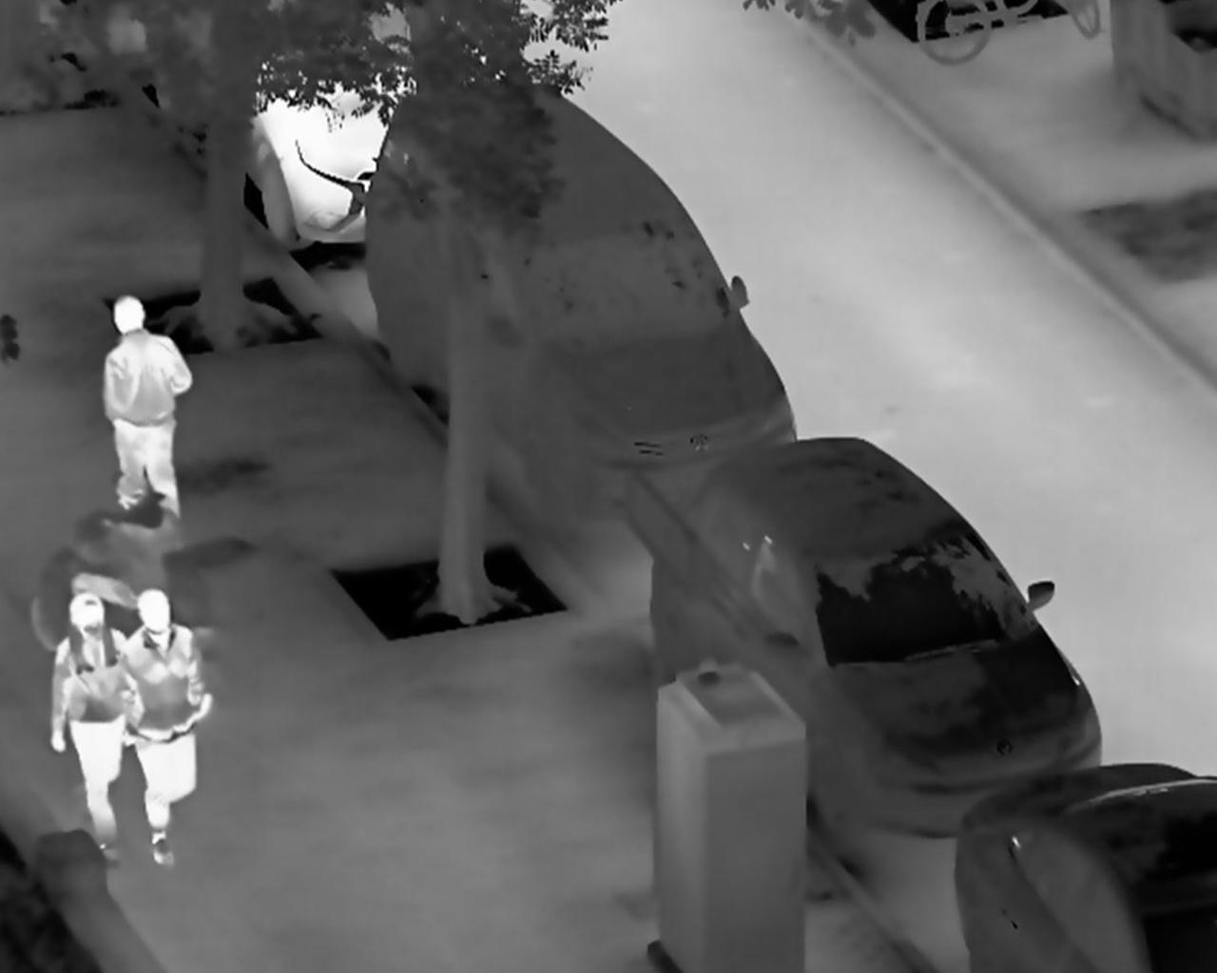person: (116, 590, 219, 869), (46, 591, 143, 861), (101, 293, 192, 519), (68, 471, 188, 615)
